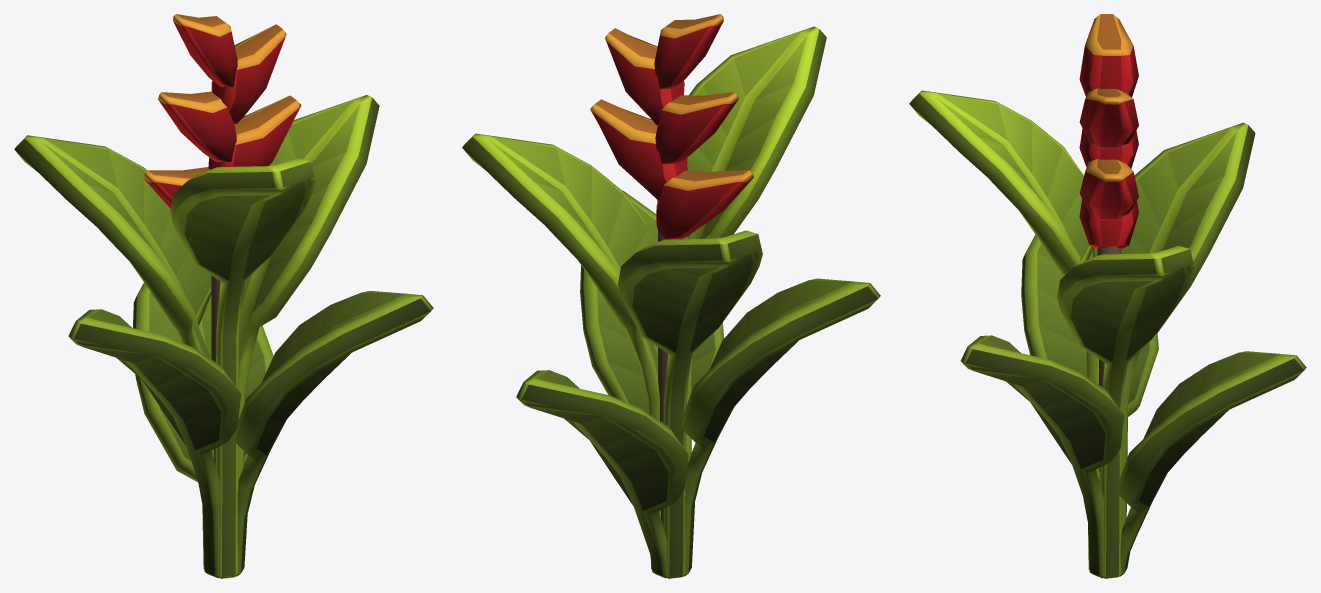
File: heliconia_small_LOD_group.fbx
3 renders of one model, left to right at view 1: azimuth 30°, elevation 25°; view 2: azimuth 150°, elevation 25°; view 3: azimuth 270°, elevation 25°, orthographic. The views are drawn at different scales.
Parts seen in each view (by area): view 1: heliconia_small_LOD0; view 2: heliconia_small_LOD0; view 3: heliconia_small_LOD0.
Boxes of the visible parts, <box> form: heliconia_small_LOD0: <box>14,14,433,578</box>; heliconia_small_LOD0: <box>462,14,880,578</box>; heliconia_small_LOD0: <box>909,14,1306,578</box>.
Size of what is drawn, in the model's own units: 145 by 216 by 145.
Materials: 1 (1 with a texture image).
